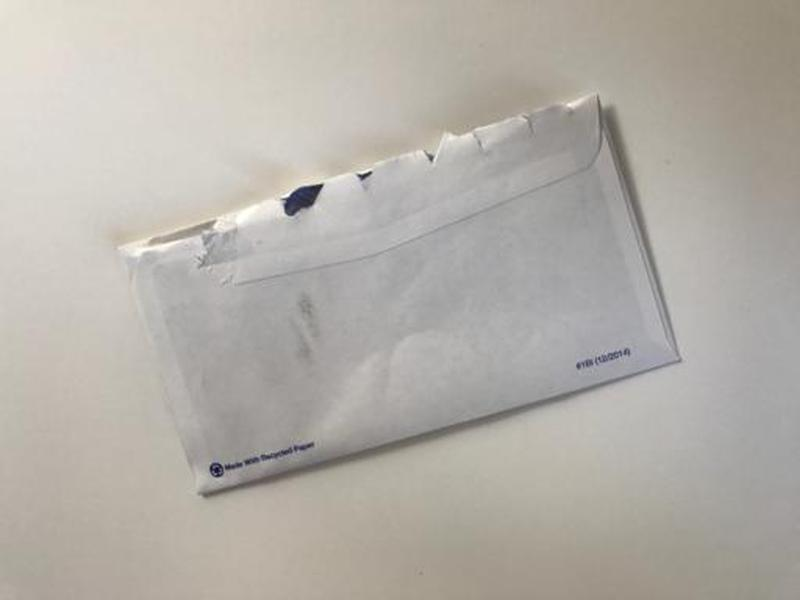paper: (112, 88, 688, 498)
